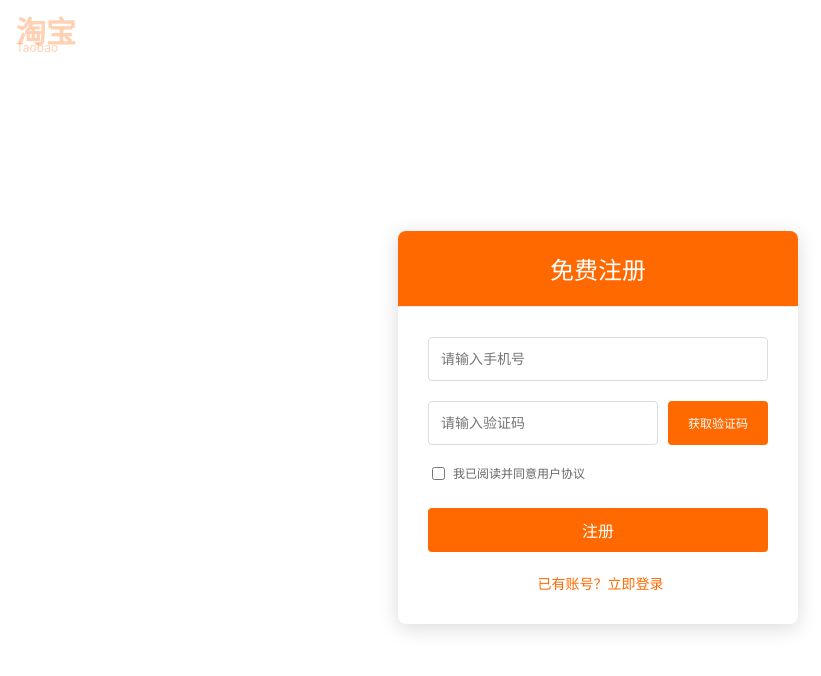
Test: RegisterForm › 注册前应该检查用户协议复选框，未勾选时显示"请同意用户协议"
// 填写表单但不勾选用户协议
Type "13800138000" into the field with placeholder "请输入手机号" at (598, 358), box [428,336,768,380]
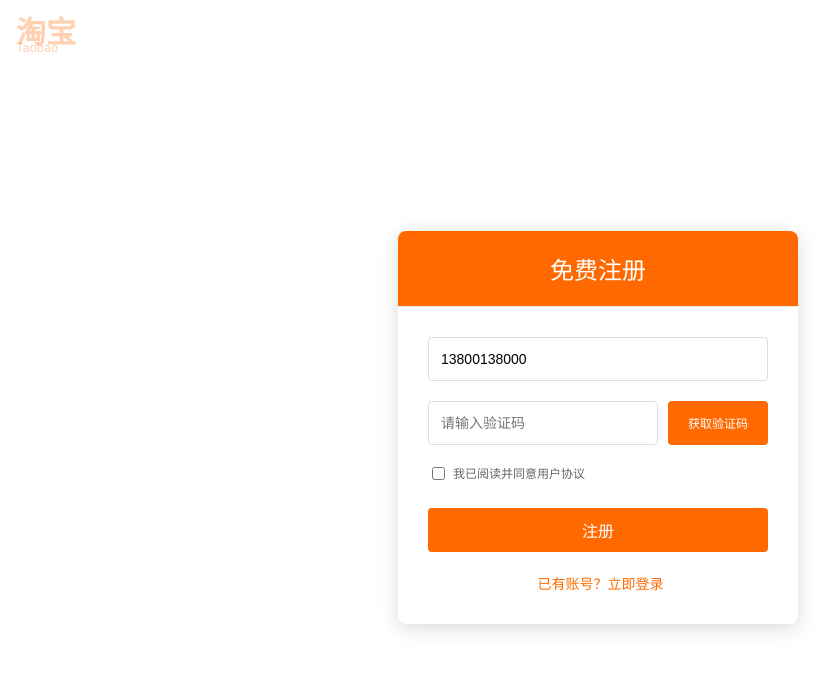
Type "123456" into the field with placeholder "请输入验证码" at (543, 422), box [428,400,658,444]
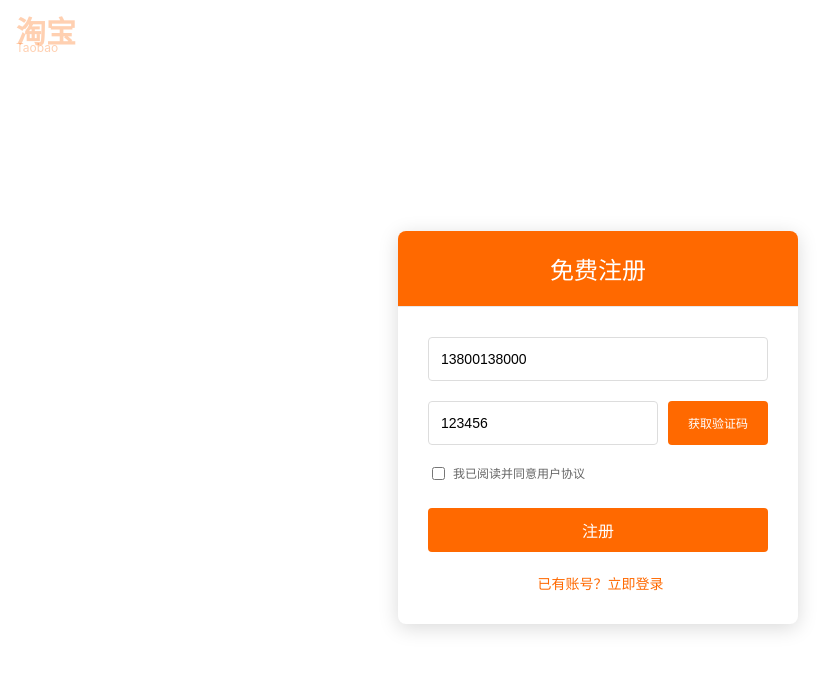
Click the button "注册" at (598, 530), box [428,508,768,552]
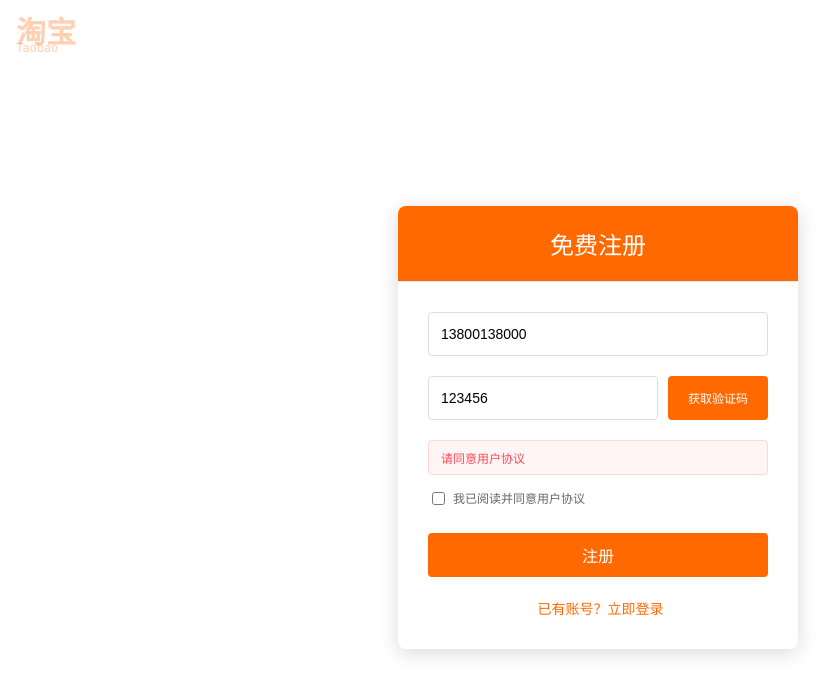
Result: the text "请同意用户协议" is shown at [428,440,768,474]
